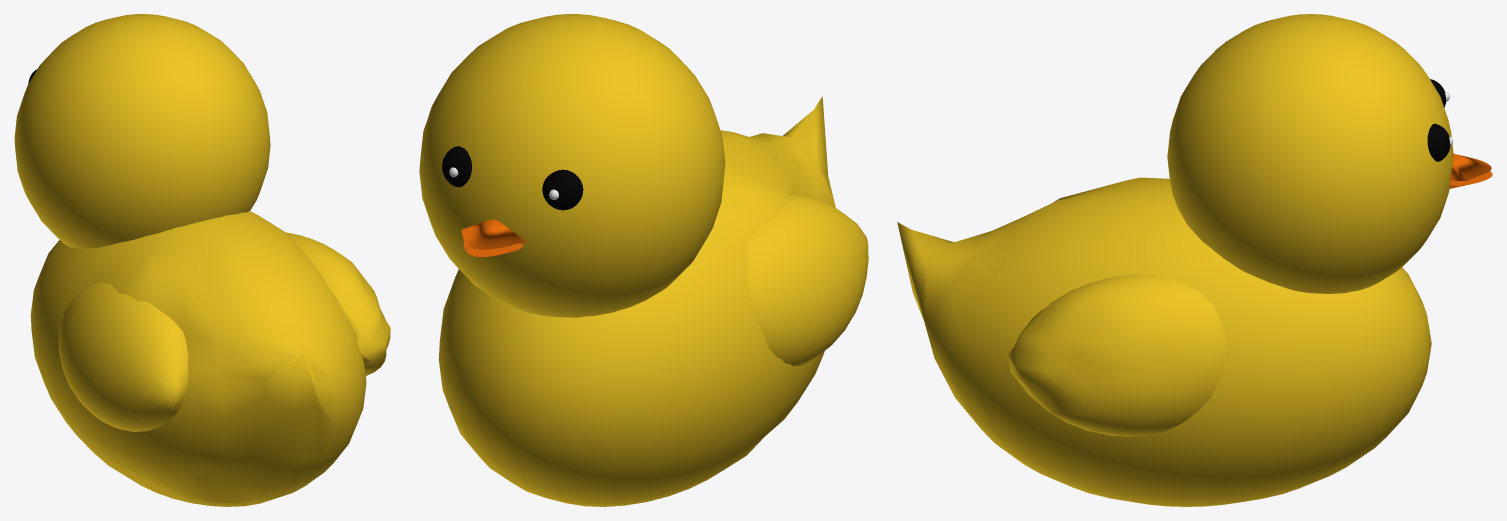
The model's file is rubberduckie.glb.
3 views of the same model, side by side, from view 1: azimuth 30°, elevation 25°; view 2: azimuth 150°, elevation 25°; view 3: azimuth 270°, elevation 25° (orthographic). The views are drawn at different scales.
Parts seen in each view (by area): view 1: Sphere, Sphere.001, Sphere.007, Sphere.006; view 2: Sphere, Sphere.001, Sphere.007, Cone, Sphere.003, Sphere.002; view 3: Sphere, Sphere.001, Sphere.006, Cone, Sphere.002.
Boxes of the visible parts, x1=… form: Sphere: x1=30, y1=211, x2=366, y2=506; Sphere.001: x1=14, y1=14, x2=270, y2=248; Sphere.007: x1=58, y1=282, x2=188, y2=431; Sphere.006: x1=286, y1=232, x2=390, y2=375; Sphere: x1=438, y1=96, x2=835, y2=506; Sphere.001: x1=419, y1=14, x2=725, y2=317; Sphere.007: x1=747, y1=192, x2=868, y2=366; Cone: x1=461, y1=219, x2=527, y2=249; Sphere.003: x1=542, y1=169, x2=583, y2=210; Sphere.002: x1=442, y1=146, x2=471, y2=187; Sphere: x1=897, y1=177, x2=1431, y2=506; Sphere.001: x1=1167, y1=14, x2=1453, y2=293; Sphere.006: x1=1007, y1=274, x2=1225, y2=436; Cone: x1=1449, y1=154, x2=1491, y2=180; Sphere.002: x1=1427, y1=123, x2=1450, y2=161.
Bounding box in the file's own units: 2.25 × 3.13 × 3.64.
